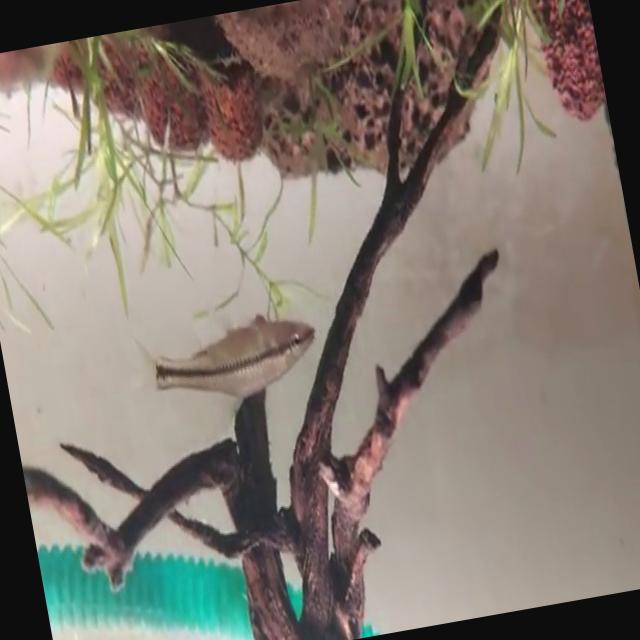Cakil Baligi: (130, 299, 331, 432)
